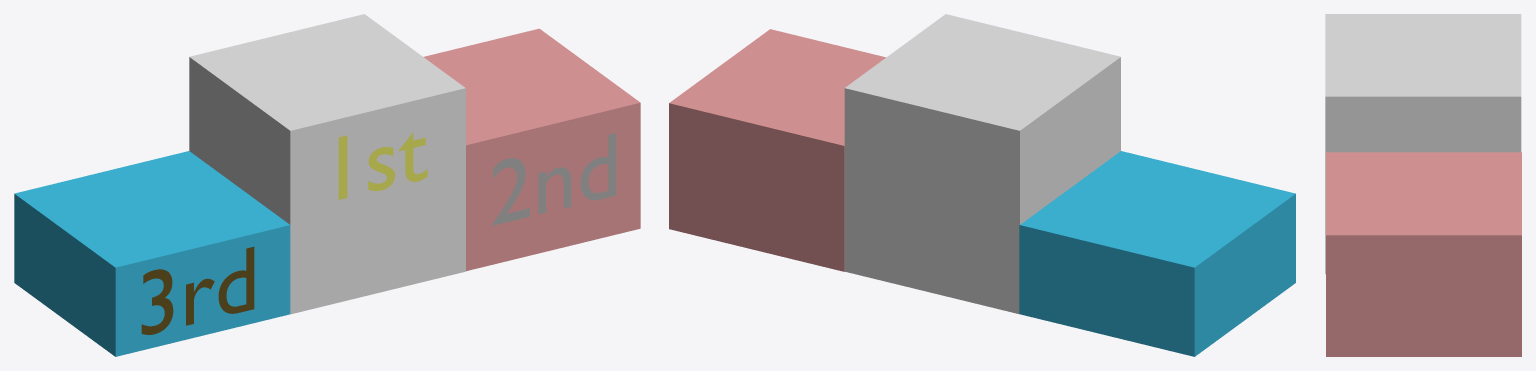
The model's file is podium.fbx.
3 renders of one model, left to right at view 1: azimuth 30°, elevation 25°; view 2: azimuth 150°, elevation 25°; view 3: azimuth 270°, elevation 25°, orthographic. The views are drawn at different scales.
Parts seen in each view (by area): view 1: 1st, 3rd, 2nd, 2ndtext, 3rdtext, 1sttext; view 2: 1st, 3rd, 2nd; view 3: 2nd, 1st.
Part boxes in pixels (<box>): 1st: <box>189,14,465,314</box>; 3rd: <box>14,151,290,356</box>; 2nd: <box>424,28,640,271</box>; 2ndtext: <box>492,133,616,225</box>; 3rdtext: <box>141,246,254,334</box>; 1sttext: <box>338,132,427,199</box>; 1st: <box>844,14,1120,313</box>; 3rd: <box>1019,151,1295,356</box>; 2nd: <box>669,29,885,271</box>; 2nd: <box>1326,152,1521,356</box>; 1st: <box>1325,14,1521,274</box>.
Bounding box in the file's own units: 599 × 200 × 202.
